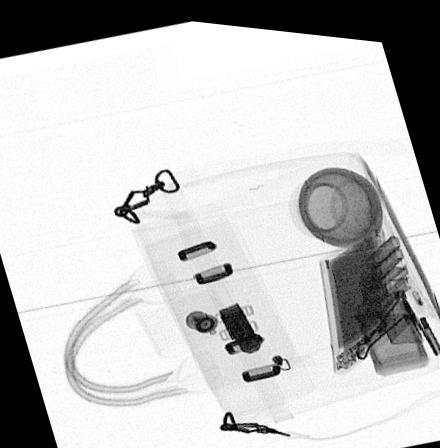Powerbank: (319, 218, 394, 364)
